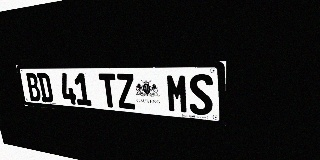1: (73, 73, 92, 106)
4: (59, 73, 77, 105)
B: (25, 73, 42, 102)
D: (36, 73, 54, 103)
M: (166, 74, 189, 114)
S: (188, 74, 213, 116)
T: (98, 73, 119, 108)
Z: (115, 73, 136, 110)
